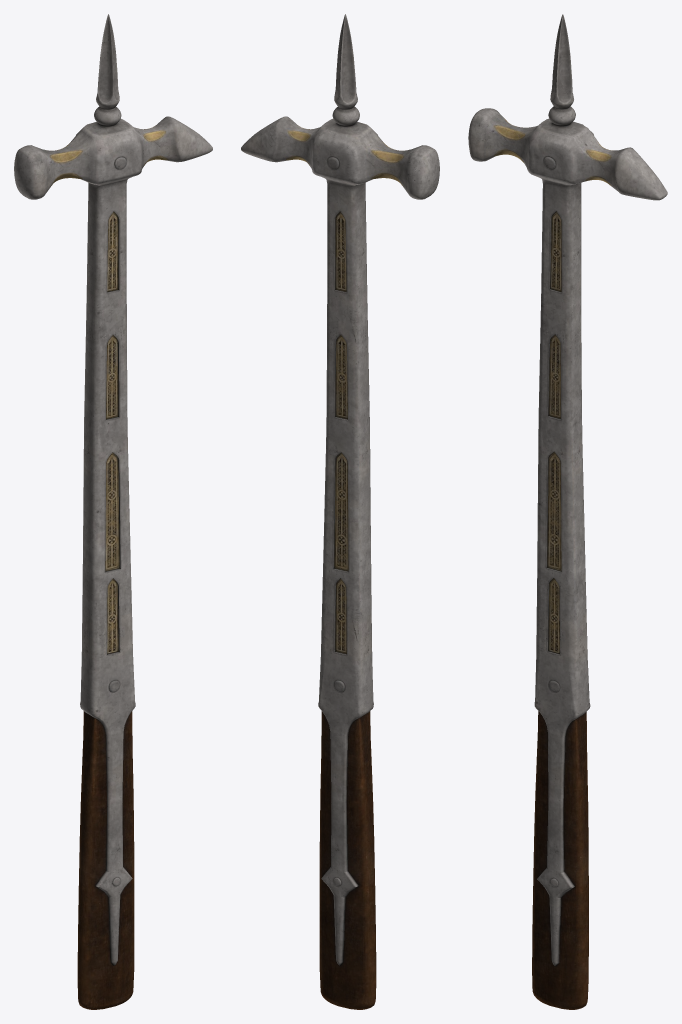
The model's file is ornate_war_hammer.gltf.
3 views of the same model, side by side, from view 1: azimuth 30°, elevation 25°; view 2: azimuth 150°, elevation 25°; view 3: azimuth 330°, elevation 25° (orthographic).
Visible parts, largest first — view 1: ornate_war_hammer; view 2: ornate_war_hammer; view 3: ornate_war_hammer.
Boxes of the visible parts, <box> form: ornate_war_hammer: <box>14,14,212,1009</box>; ornate_war_hammer: <box>241,14,439,1009</box>; ornate_war_hammer: <box>468,14,667,1009</box>.
Bounding box in the file's own units: 0.1441 × 0.7112 × 0.0348.
Materials: 1 (1 with a texture image).
